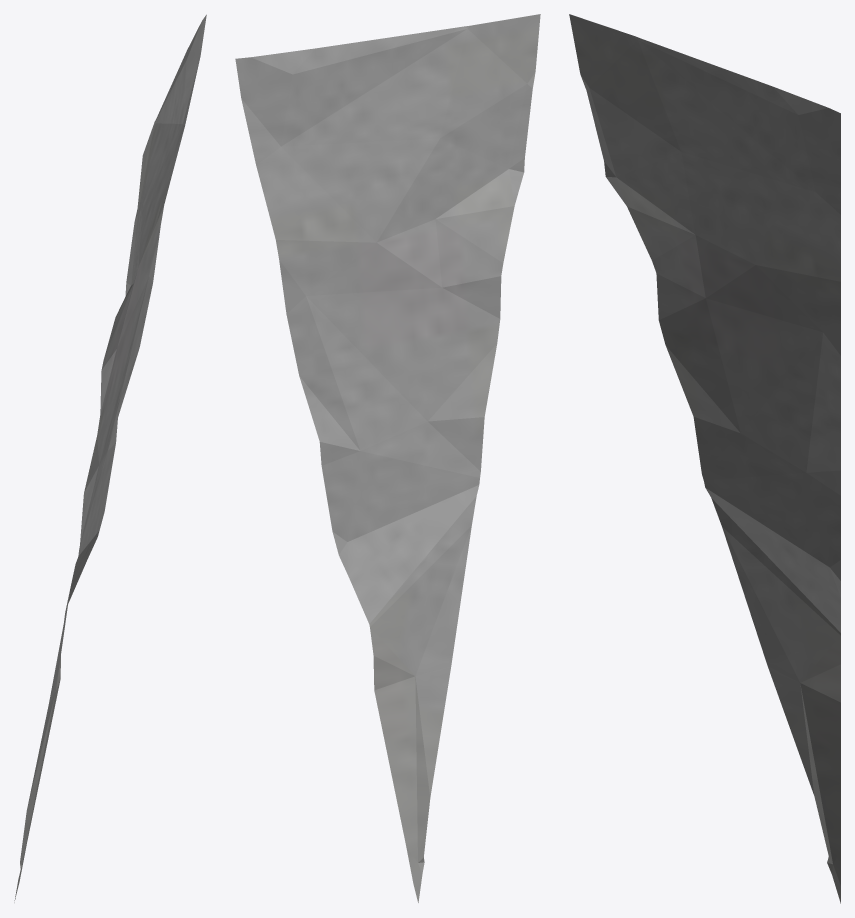
3 views of the same model, side by side, from view 1: azimuth 30°, elevation 25°; view 2: azimuth 150°, elevation 25°; view 3: azimuth 270°, elevation 25° (orthographic). The views are drawn at different scales.
Size of the model in its own units: 0.0998 by 0.4172 by 0.1155.
1 material, 1 textured.
